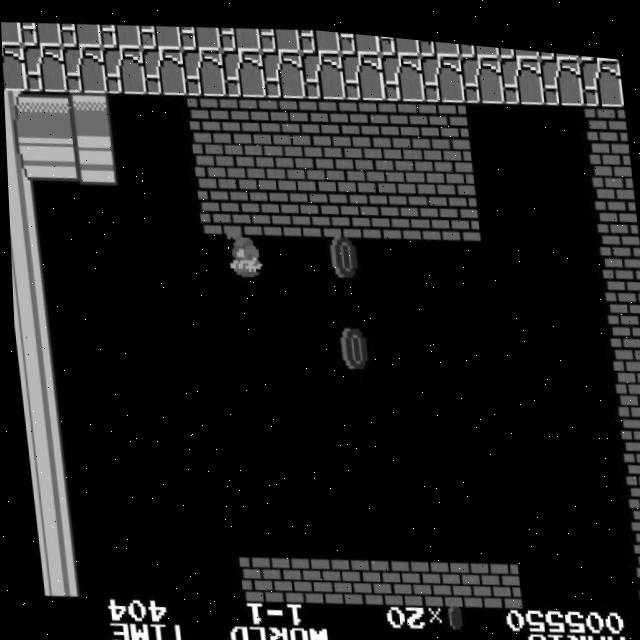1- brick_block: (384, 89, 430, 142), (344, 89, 390, 142), (352, 547, 398, 600), (312, 547, 358, 600), (224, 88, 270, 141), (185, 88, 231, 141), (471, 548, 517, 600), (392, 548, 438, 600), (354, 181, 400, 233), (349, 135, 395, 187), (314, 181, 360, 233), (309, 135, 355, 187), (304, 89, 350, 141), (269, 135, 315, 187), (264, 89, 310, 141), (272, 547, 318, 599), (429, 135, 474, 188), (389, 135, 434, 188), (433, 182, 479, 233), (393, 182, 439, 233), (274, 181, 320, 232), (234, 181, 280, 232), (194, 181, 240, 232), (588, 137, 633, 189), (424, 90, 469, 142), (432, 548, 477, 600), (230, 134, 275, 186), (233, 547, 278, 599), (190, 134, 235, 186), (593, 184, 638, 235), (584, 91, 628, 143), (598, 229, 640, 281), (603, 275, 640, 327), (608, 320, 640, 371), (612, 366, 640, 417), (617, 412, 640, 463), (621, 458, 640, 508), (626, 504, 640, 554), (631, 549, 640, 600)
11- little_mario: (221, 223, 269, 278)
14- pipe: (25, 87, 71, 140), (34, 546, 80, 598), (15, 363, 61, 415), (20, 408, 65, 461), (29, 501, 75, 552), (25, 455, 71, 506), (31, 133, 76, 185), (11, 317, 56, 368), (9, 271, 51, 323), (8, 225, 47, 277), (6, 180, 41, 231), (5, 135, 36, 185), (3, 89, 32, 140)
15- pipe_head: (70, 134, 116, 186), (65, 88, 111, 140)
17- undestructible_block: (538, 44, 584, 97), (379, 43, 425, 96), (21, 41, 67, 94), (459, 44, 505, 96), (419, 44, 465, 96), (339, 43, 385, 95), (260, 43, 306, 95), (220, 43, 266, 95), (180, 42, 226, 94), (140, 42, 186, 94), (61, 42, 107, 94), (499, 44, 544, 97), (300, 43, 345, 95), (101, 42, 146, 94), (579, 45, 623, 97), (177, 19, 221, 49), (138, 19, 182, 49), (98, 19, 142, 49), (257, 20, 301, 49), (217, 20, 261, 49), (58, 19, 102, 48), (18, 19, 62, 48), (2, 43, 27, 94), (297, 23, 341, 50), (337, 26, 381, 50), (376, 28, 420, 50), (416, 32, 460, 50), (456, 35, 499, 50), (1, 21, 22, 48), (496, 38, 539, 51), (536, 41, 579, 51)
2- coin: (328, 318, 374, 370), (319, 227, 364, 279)
